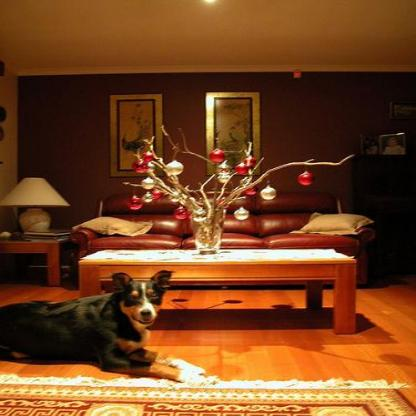kelpie: (0, 270, 221, 386)
